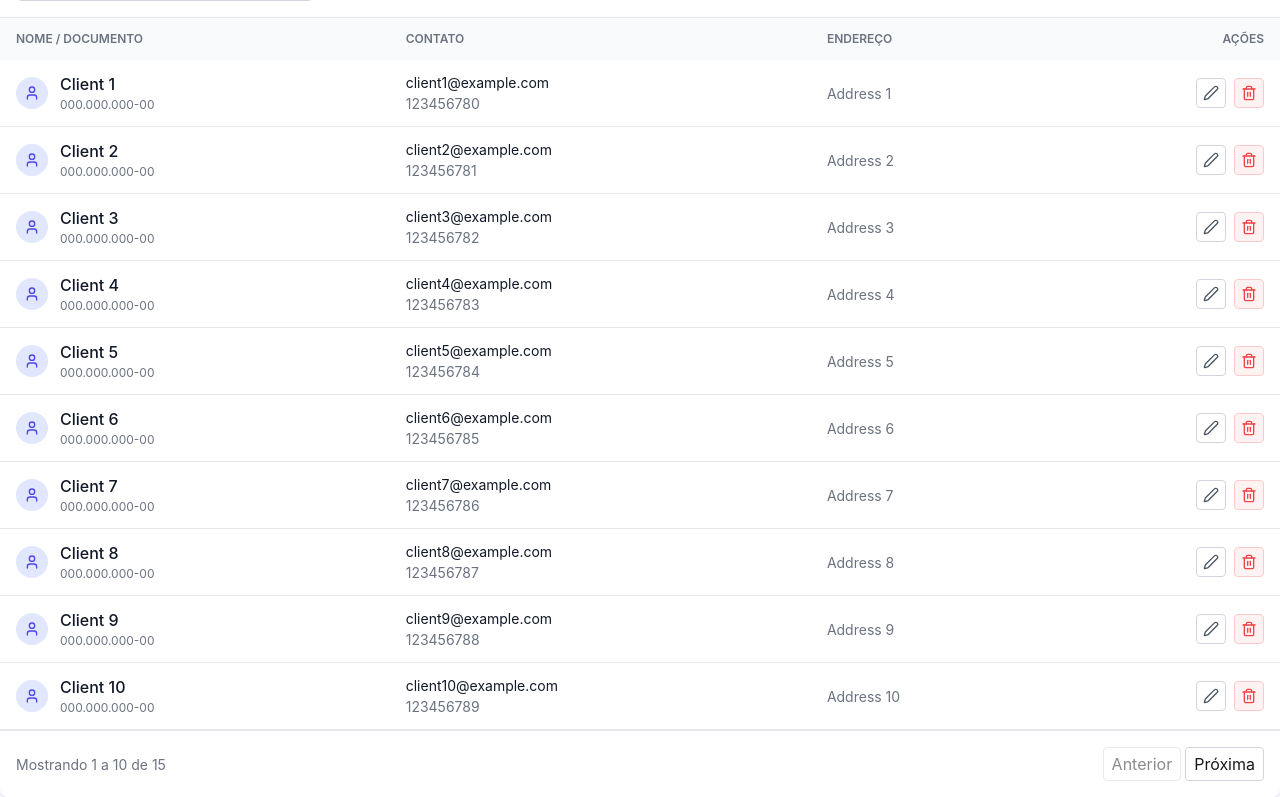
Test case: ClientList › should handle pagination
(page scrolled)
Expected: the text "Client 1" is shown, [60,74,115,94]
Expected: the text "Client 11" is not shown
# Find next page button
Click the button "Próxima".
click(1225, 764)  # box [1185,747,1264,781]
(page scrolled)
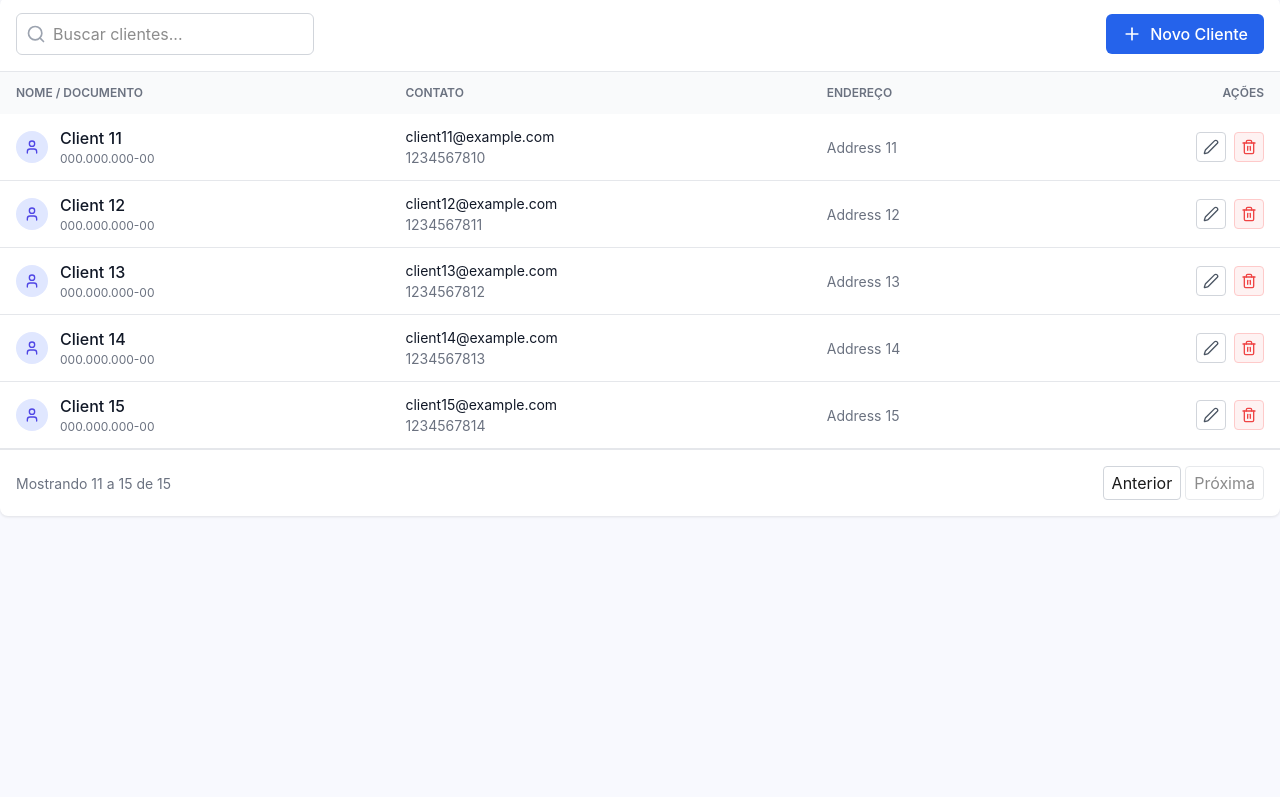
Expected: the text "Client 11" is shown, [60,128,122,148]
